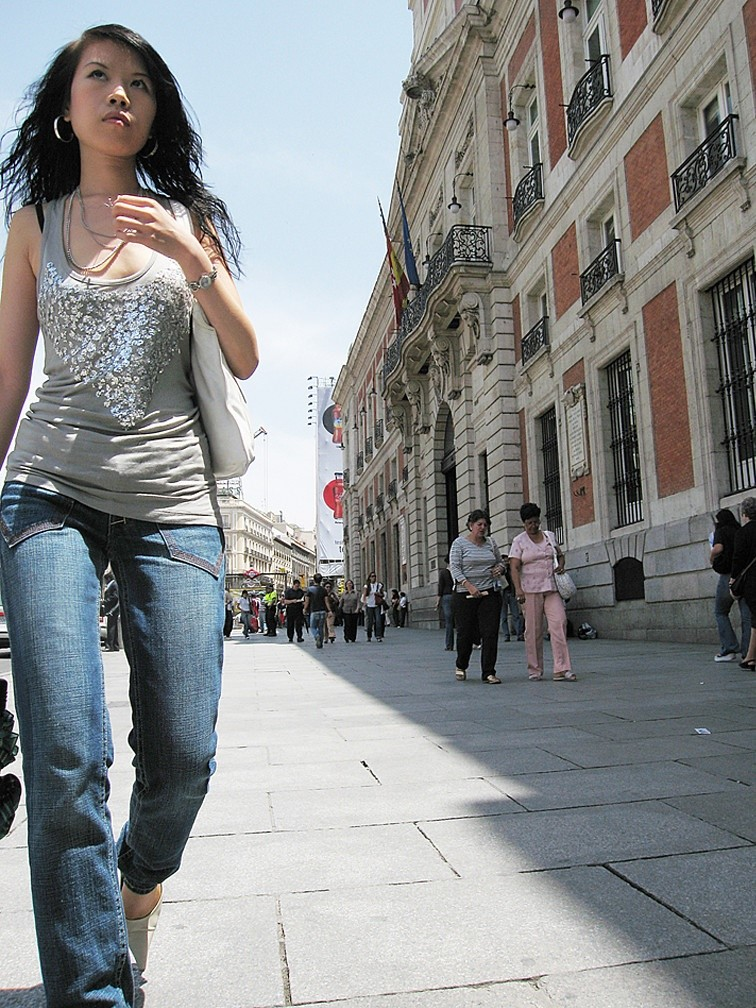face_no_mask: (55, 24, 162, 163), (465, 510, 490, 537)
